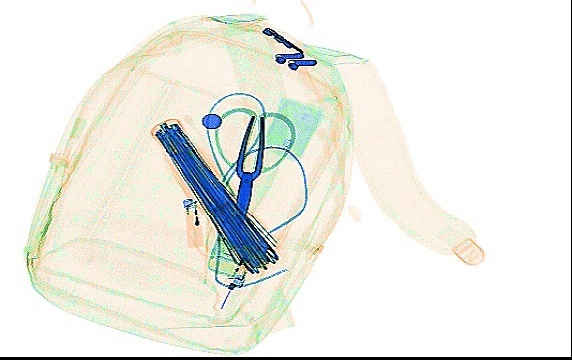lighter: (224, 233, 270, 291), (181, 193, 206, 251)
scissors: (212, 106, 296, 231)
